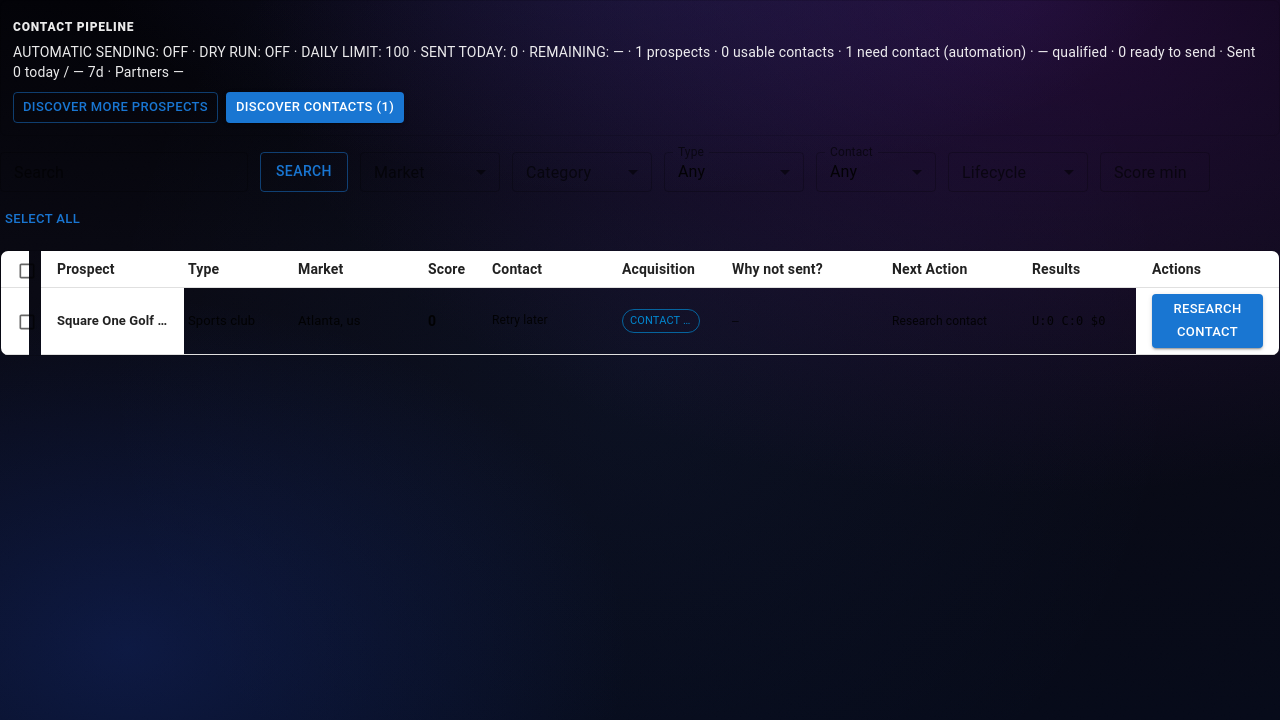
Scenario: ProspectsPanel — contact discovery › Discover contacts confirms, starts a durable job and shows the progress panel
This screenshot has width=1280, height=720.
expect the text "Square One Golf Performance Center" is shown: met, box [57, 313, 168, 330]
Click the button "Discover contacts (1)": (315, 107) [226, 92, 404, 123]
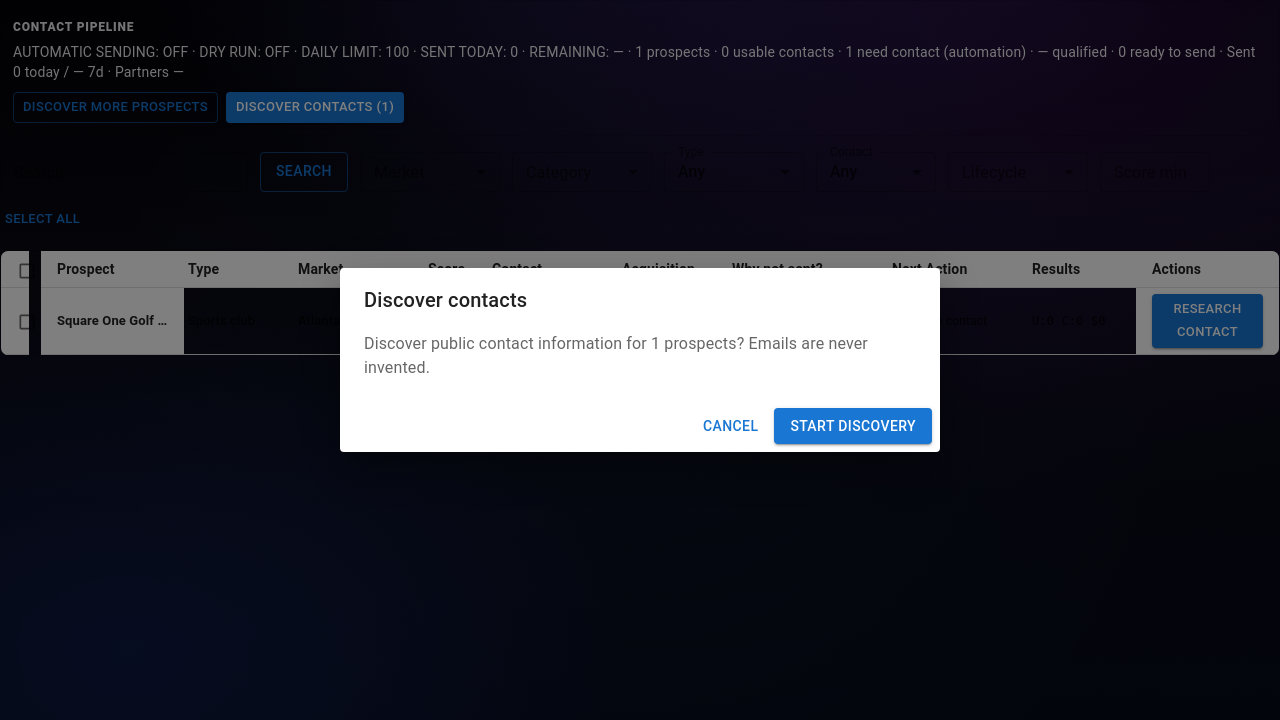
expect the text "Discover public contact information for 1 prospects" is shown: met, box [364, 332, 916, 380]
Click the button "Start discovery": (853, 426) [774, 408, 932, 444]
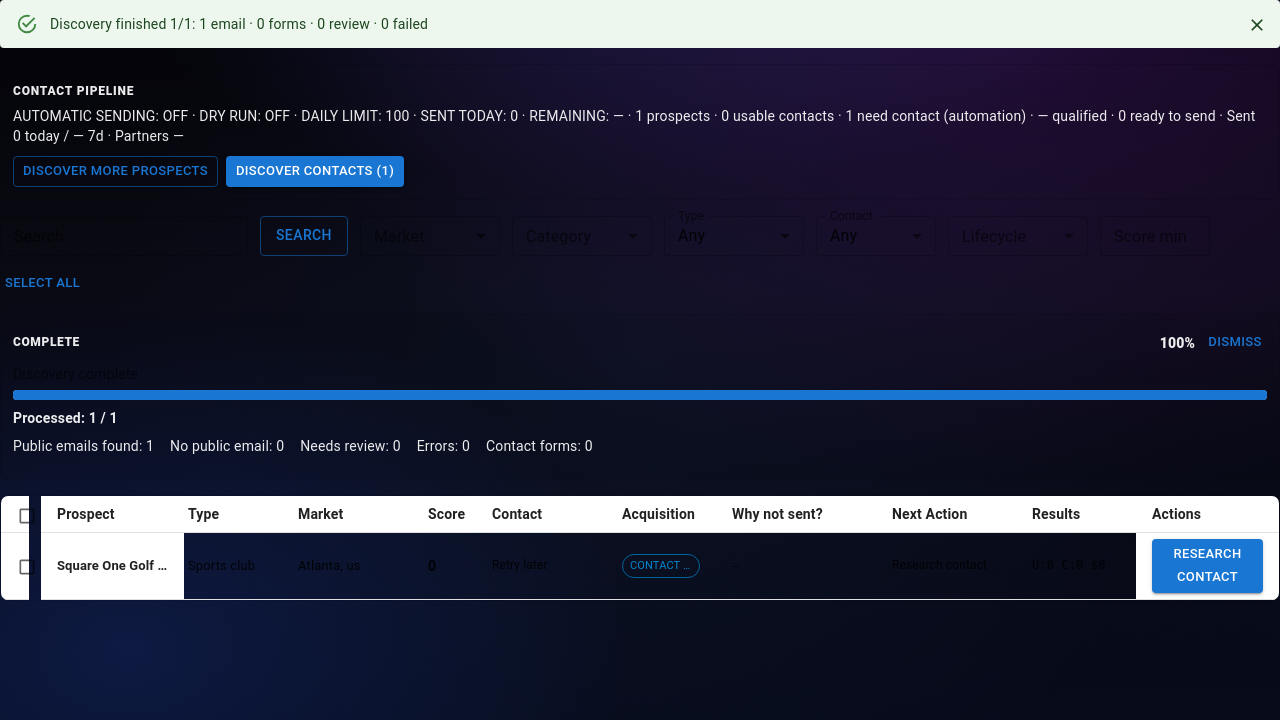
expect the text "COMPLETE" is shown: met, box [13, 335, 80, 349]
expect the text "Processed: 1 / 1" is shown: met, box [13, 410, 118, 426]
expect the text "Public emails found: 1" is shown: met, box [13, 436, 154, 456]
